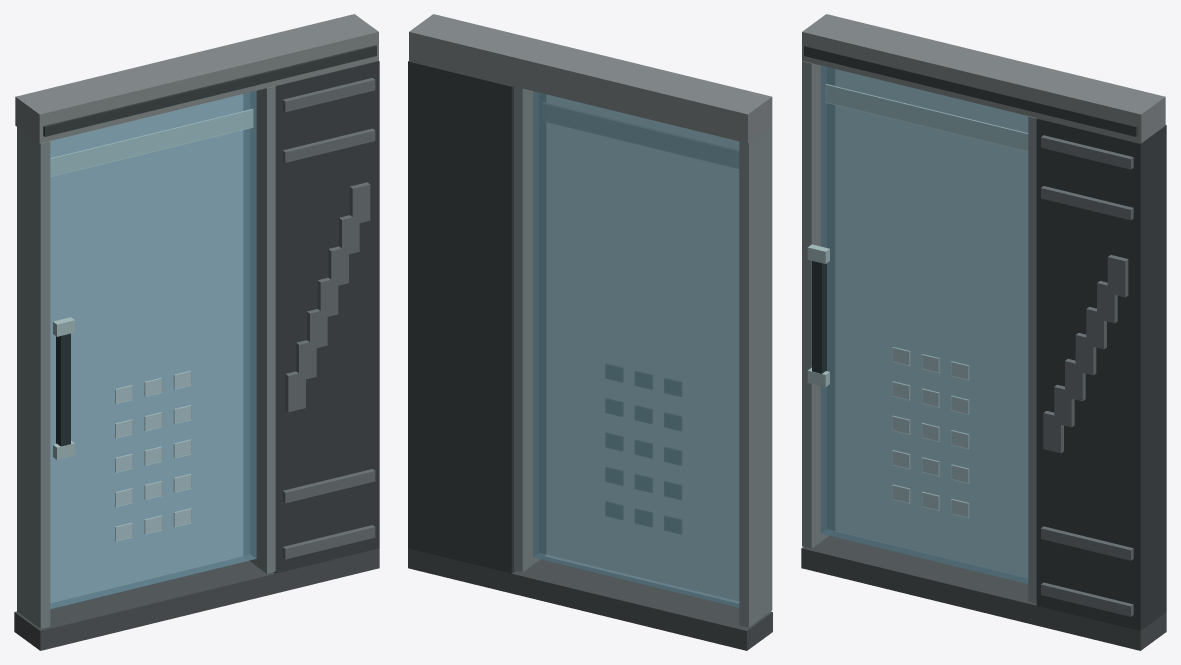
The model's file is CMU3DSecureWindoor.glb.
3 renders of one model, left to right at view 1: azimuth 30°, elevation 25°; view 2: azimuth 150°, elevation 25°; view 3: azimuth 330°, elevation 25°, orthographic.
Parts seen in each view (by area): view 1: tempered sliding pane, fixed motor housing, sliding frame upright (×2), upper guide, edge sill, diagonal housing brace (×7), housing reinforcing rib (×4), glass upper gleam, guide dark groove, sliding pull grip; view 2: tempered sliding pane, fixed motor housing, sliding frame upright (×2), upper guide, edge sill, glass upper gleam; view 3: tempered sliding pane, fixed motor housing, sliding frame upright (×2), upper guide, edge sill, diagonal housing brace (×7), housing reinforcing rib (×4), glass upper gleam, guide dark groove, sliding pull grip.
Part boxes in pixels (x1=…): tempered sliding pane: x1=50, y1=90, x2=256, y2=608; fixed motor housing: x1=274, y1=61, x2=379, y2=573; sliding frame upright (×2): x1=17, y1=86, x2=275, y2=628; upper guide: x1=15, y1=14, x2=378, y2=143; edge sill: x1=14, y1=548, x2=379, y2=650; diagonal housing brace (×7): x1=285, y1=182, x2=370, y2=412; housing reinforcing rib (×4): x1=282, y1=78, x2=375, y2=559; glass upper gleam: x1=50, y1=109, x2=253, y2=176; guide dark groove: x1=43, y1=45, x2=376, y2=136; sliding pull grip: x1=56, y1=333, x2=70, y2=446; tempered sliding pane: x1=533, y1=91, x2=739, y2=607; fixed motor housing: x1=408, y1=61, x2=515, y2=573; sliding frame upright (×2): x1=514, y1=86, x2=772, y2=627; upper guide: x1=409, y1=14, x2=772, y2=143; edge sill: x1=408, y1=548, x2=772, y2=650; glass upper gleam: x1=543, y1=103, x2=738, y2=168; tempered sliding pane: x1=820, y1=65, x2=1028, y2=583; fixed motor housing: x1=1036, y1=118, x2=1166, y2=630; sliding frame upright (×2): x1=802, y1=61, x2=1036, y2=603; upper guide: x1=802, y1=14, x2=1165, y2=143; edge sill: x1=801, y1=532, x2=1166, y2=650; diagonal housing brace (×7): x1=1043, y1=255, x2=1128, y2=453; housing reinforcing rib (×4): x1=1041, y1=135, x2=1133, y2=616; glass upper gleam: x1=825, y1=84, x2=1028, y2=151; guide dark groove: x1=804, y1=45, x2=1137, y2=136; sliding pull grip: x1=812, y1=261, x2=826, y2=373.
Size of the model in its own units: 0.98 by 1.48 by 0.156.
